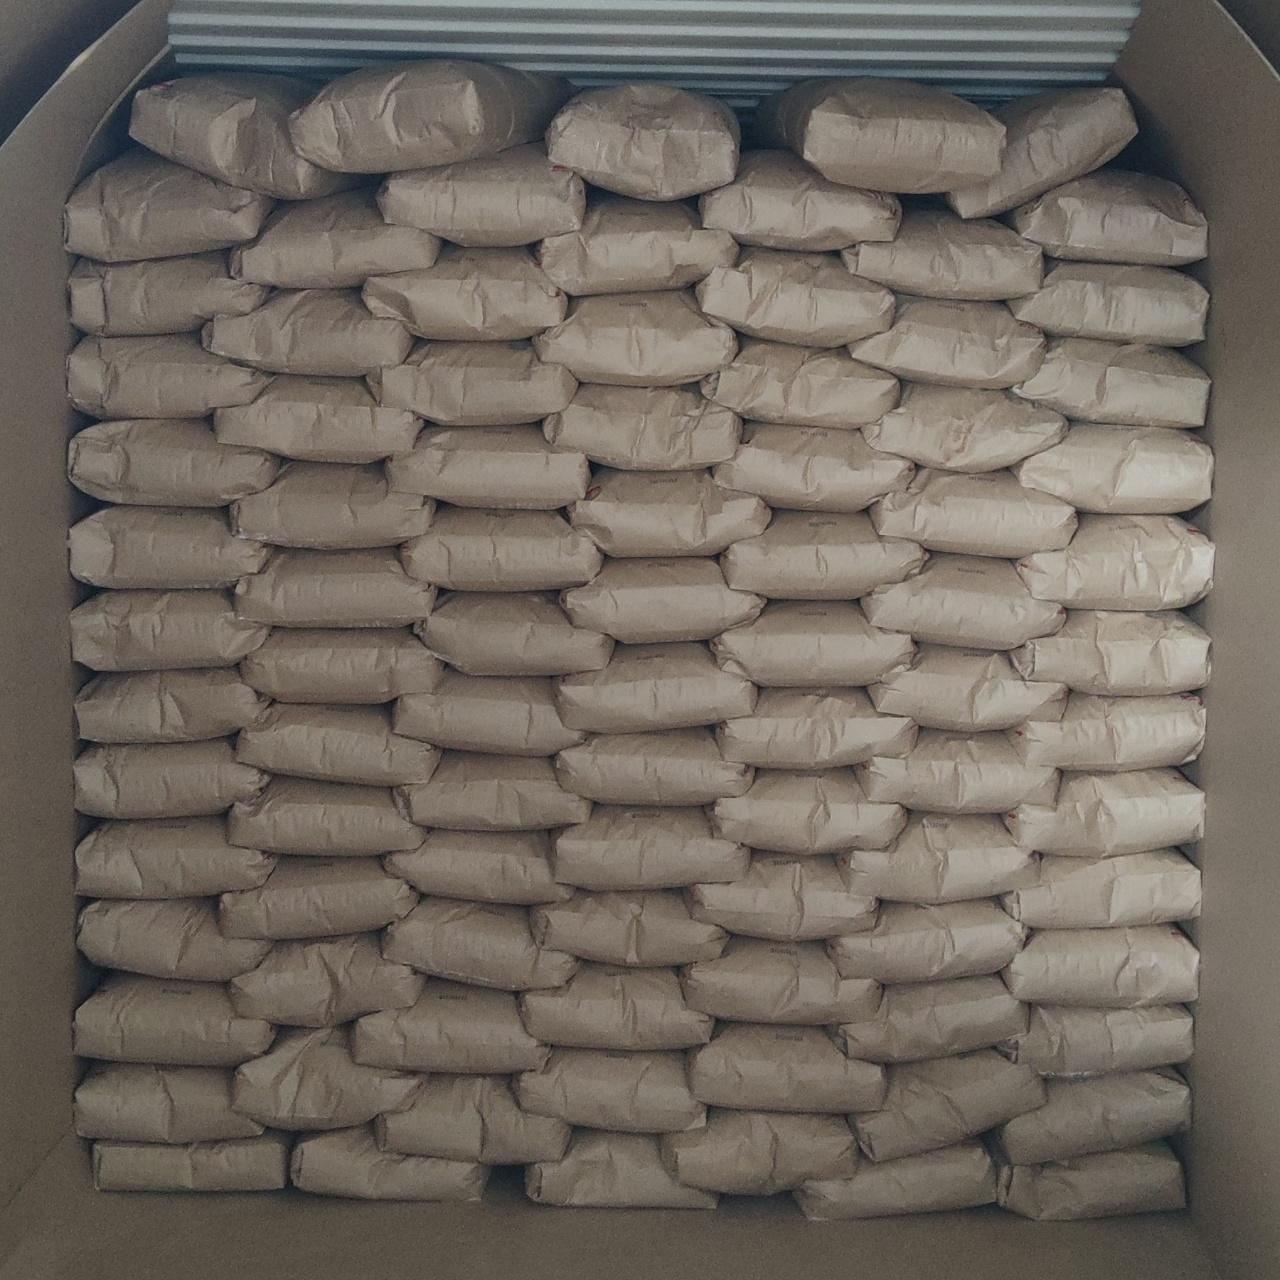sack: (292, 60, 558, 172), (760, 79, 1005, 190), (132, 74, 343, 198), (948, 88, 1133, 215), (66, 150, 272, 260), (549, 86, 738, 198), (850, 1050, 1044, 1158), (377, 144, 583, 244), (700, 150, 903, 248), (538, 192, 734, 294), (232, 192, 438, 286), (1006, 168, 1206, 263), (842, 204, 1042, 298), (234, 1028, 422, 1126), (697, 248, 894, 342), (536, 290, 734, 382), (862, 554, 1062, 646), (365, 246, 566, 336), (850, 297, 1044, 388), (864, 382, 1065, 470), (216, 376, 422, 462), (714, 422, 914, 510), (384, 898, 574, 990), (1017, 516, 1212, 606), (568, 468, 768, 556), (204, 290, 411, 374), (840, 812, 1034, 903), (872, 470, 1076, 556), (1014, 422, 1212, 510), (556, 644, 754, 731), (76, 974, 274, 1062), (68, 420, 280, 502), (354, 980, 546, 1070), (722, 512, 924, 598), (998, 1070, 1189, 1160), (232, 462, 436, 546), (702, 338, 898, 425), (232, 932, 422, 1022), (561, 558, 764, 642), (1012, 338, 1206, 425), (68, 334, 270, 418), (682, 937, 878, 1022), (544, 384, 740, 470), (688, 1024, 884, 1110), (376, 1076, 566, 1164), (686, 852, 876, 940), (388, 424, 588, 508), (832, 976, 1026, 1062), (1006, 770, 1201, 855), (402, 506, 600, 590), (858, 730, 1058, 812), (368, 342, 574, 422), (870, 646, 1064, 730), (712, 602, 910, 685), (828, 900, 1026, 982), (1010, 612, 1208, 694), (70, 252, 268, 334), (1008, 260, 1206, 342), (416, 592, 612, 674), (72, 590, 268, 670), (515, 1048, 702, 1132), (710, 770, 903, 852), (79, 898, 270, 980), (520, 964, 712, 1046), (76, 816, 275, 894), (72, 508, 270, 586), (238, 704, 438, 782), (554, 806, 748, 886), (662, 1110, 856, 1190), (396, 670, 584, 753), (1008, 692, 1204, 770), (796, 1142, 998, 1218), (719, 688, 915, 765), (1005, 926, 1196, 1006), (220, 858, 414, 937), (230, 776, 422, 855), (556, 728, 753, 804), (1002, 850, 1198, 926), (76, 738, 268, 816), (76, 1062, 263, 1142), (241, 628, 442, 702), (236, 549, 434, 622), (396, 753, 588, 828), (526, 1130, 714, 1206), (76, 668, 270, 742), (532, 890, 726, 964), (1000, 1144, 1182, 1220), (998, 1005, 1190, 1076), (292, 1128, 486, 1198), (384, 830, 572, 903), (91, 1136, 286, 1190)
